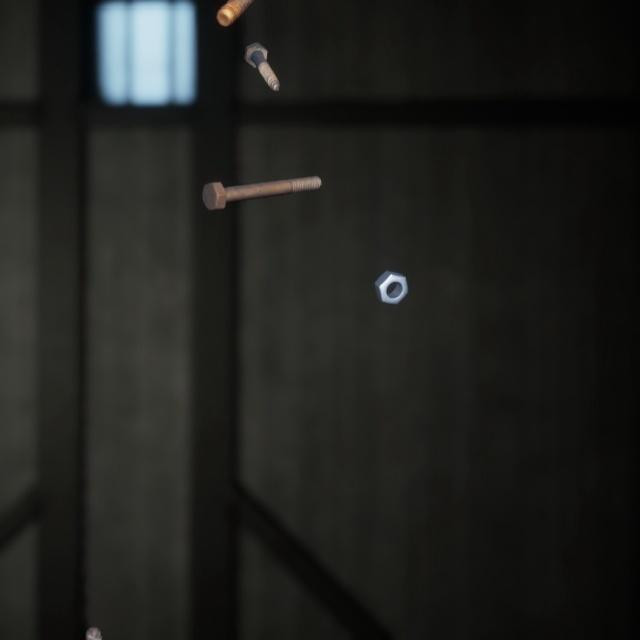bolt: (198, 156, 325, 199), (239, 27, 284, 84), (81, 597, 112, 640), (212, 0, 254, 24)
nut: (370, 250, 413, 293)
